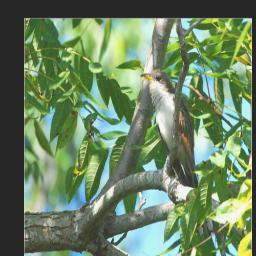Cuckoo: (140, 68, 199, 187)
